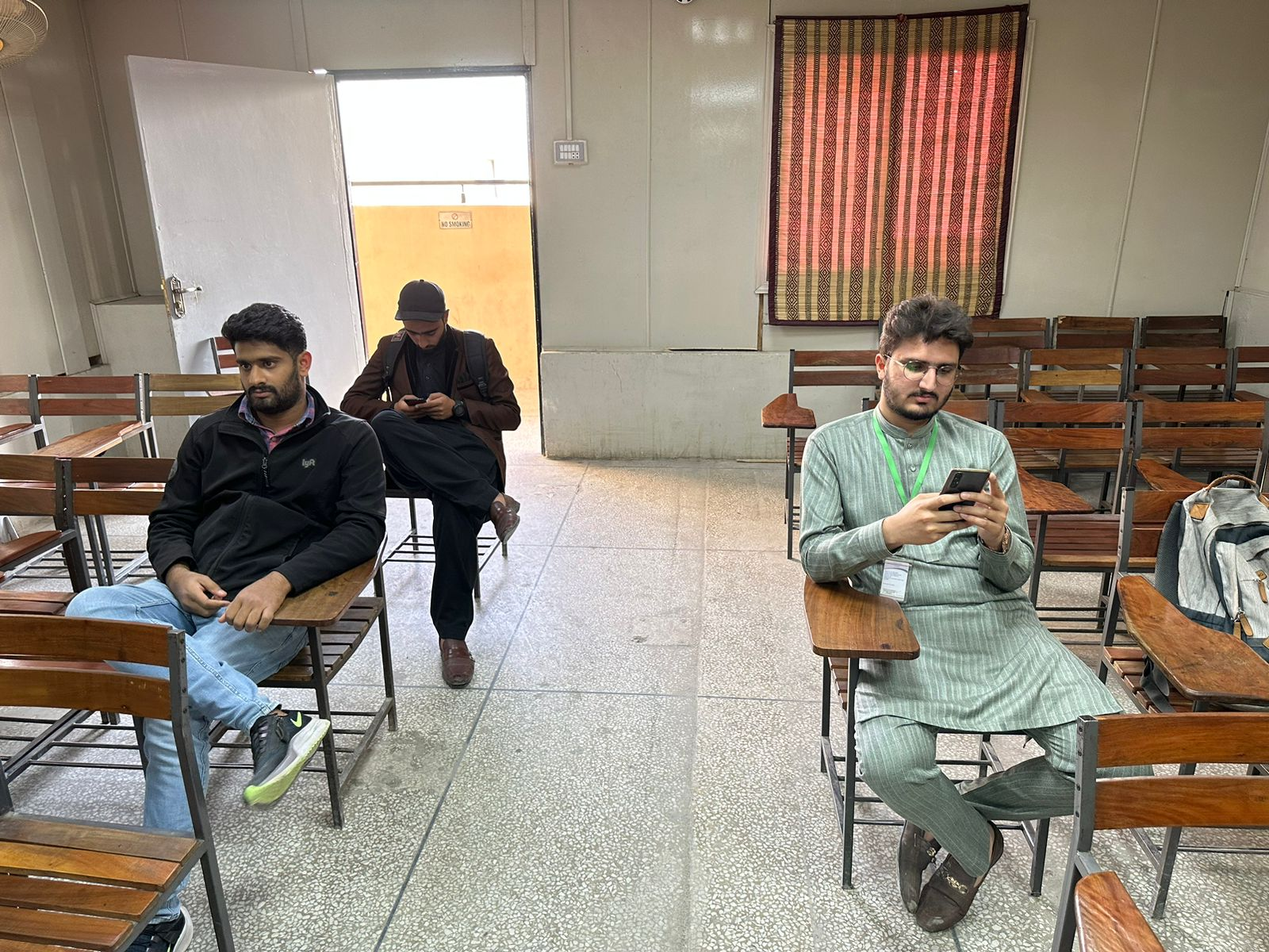non-cheating: (220, 302, 312, 414)
phone: (900, 468, 1008, 544), (394, 391, 453, 421)
